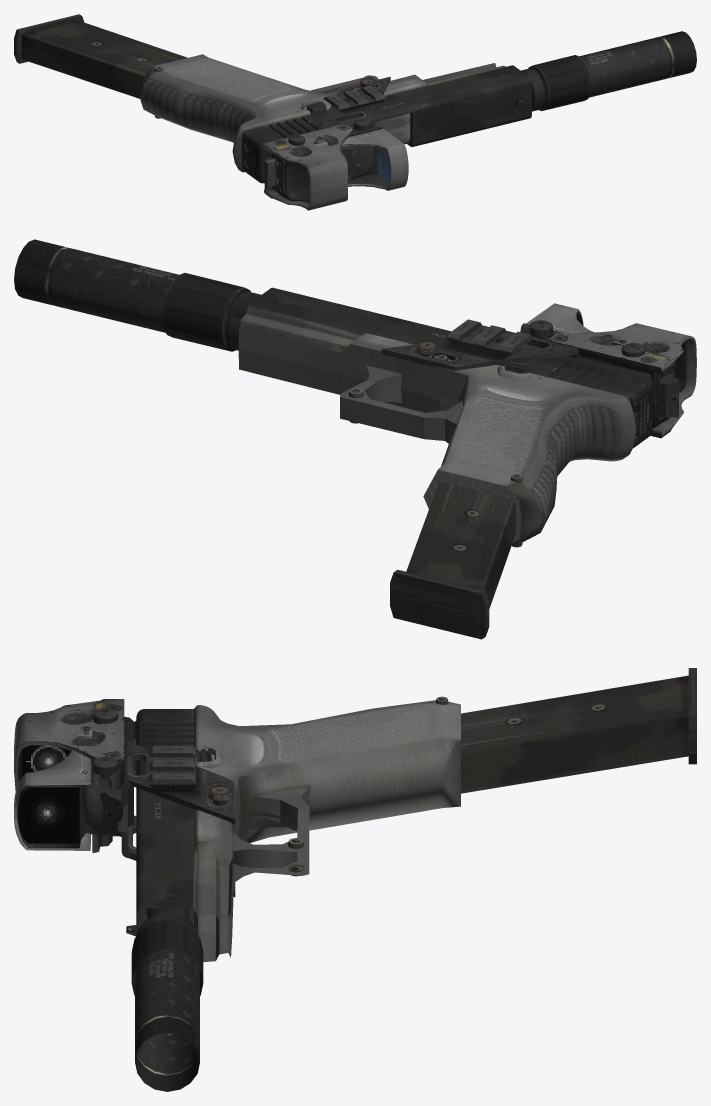
File: viewmodel_glock_LOD0.obj
The picture shows the model from 3 angles, top to bottom: view 1: azimuth 30°, elevation 25°; view 2: azimuth 150°, elevation 25°; view 3: azimuth 270°, elevation 25°; orthographic projection. The views are drawn at different scales.
Visible parts, largest first — view 1: mtl_weapon_glock, mtl_weapon_suppressor_b, mtl_weapon_eotech_2, mtl_weapon_red_dot_sight, mtl_weapon_pistol_rail, mtl_weapon_reflex_lens; view 2: mtl_weapon_glock, mtl_weapon_suppressor_b, mtl_weapon_eotech_2, mtl_weapon_pistol_rail, mtl_weapon_red_dot_sight; view 3: mtl_weapon_glock, mtl_weapon_suppressor_b, mtl_weapon_pistol_rail, mtl_weapon_eotech_2, mtl_weapon_red_dot_sight, mtl_weapon_red_cross_small, mtl_weapon_red_dot3.
Boxes of the visible parts, x1,y1,x2,y2 form: mtl_weapon_glock: (14,14,531,183); mtl_weapon_suppressor_b: (521,31,696,111); mtl_weapon_eotech_2: (264,123,373,210); mtl_weapon_red_dot_sight: (288,118,408,190); mtl_weapon_pistol_rail: (264,76,390,188); mtl_weapon_reflex_lens: (377,147,390,182); mtl_weapon_glock: (238,287,652,639); mtl_weapon_suppressor_b: (14,239,261,351); mtl_weapon_eotech_2: (543,323,696,438); mtl_weapon_pistol_rail: (381,319,678,418); mtl_weapon_red_dot_sight: (520,303,644,357); mtl_weapon_glock: (126,668,696,961); mtl_weapon_suppressor_b: (131,912,203,1091); mtl_weapon_pistol_rail: (100,742,235,897); mtl_weapon_eotech_2: (14,699,133,836); mtl_weapon_red_dot_sight: (14,707,118,853); mtl_weapon_red_cross_small: (17,785,79,843); mtl_weapon_red_dot3: (22,745,70,776).
Bounding box in the file's own units: 42.11 × 5.67 × 32.75.
